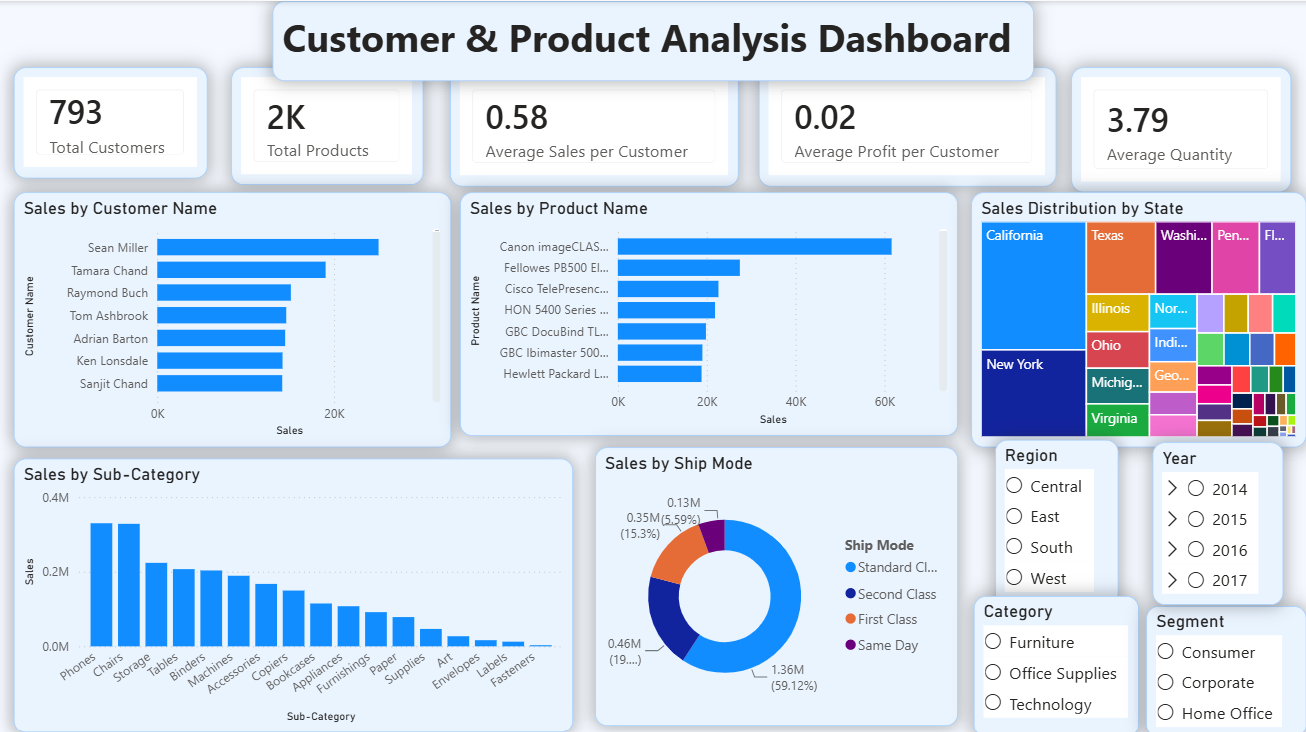

Layout of this report page (visuals, bound fields, positions):
{"tool":"powerbi","page":{"name":"Customer & Product Analysis","canvas":[1280,720],"ordinal":1},"visuals":[{"type":"cardVisual","fields":{"Data":["superstore_sales_cleaned.Total Customers"]},"box":[13.7,64.5,189.4,108.4],"z":0},{"type":"cardVisual","fields":{"Data":["superstore_sales_cleaned.Total Products"]},"box":[226.4,64.5,188,115.3],"z":1000},{"type":"cardVisual","fields":{"Data":["superstore_sales_cleaned.Average Sales per Customer"]},"box":[440.5,64.5,282.7,116.6],"z":2000},{"type":"cardVisual","fields":{"Data":["superstore_sales_cleaned.Average Profit per Customer"]},"box":[742.4,64.5,290.9,116.6],"z":3000},{"type":"cardVisual","fields":{"Data":["superstore_sales_cleaned.Average Quantity"]},"box":[1048.4,64.5,215.4,122.1],"z":4000},{"type":"clusteredBarChart","fields":{"Category":["superstore_sales_cleaned.Customer Name"],"Y":["Sum(superstore_sales_cleaned.Sales)"]},"box":[13.7,186.6,428.1,249.7],"z":5000},{"type":"barChart","fields":{"Category":["superstore_sales_cleaned.Product Name"],"Y":["Sum(superstore_sales_cleaned.Sales)"]},"box":[450.1,186.6,487.1,238.8],"z":6000},{"type":"clusteredColumnChart","fields":{"Category":["superstore_sales_cleaned.Sub-Category"],"Y":["Sum(superstore_sales_cleaned.Sales)"]},"box":[13.7,447.3,547.5,269],"z":7000},{"type":"donutChart","fields":{"Category":["superstore_sales_cleaned.Ship Mode"],"Y":["Sum(superstore_sales_cleaned.Sales)"]},"box":[581.8,436.4,355.4,273.1],"z":8000},{"type":"treemap","title":"Sales Distribution by State","fields":{"Group":["superstore_sales_cleaned.State"],"Values":["Sum(superstore_sales_cleaned.Sales)"]},"box":[949.6,186.6,328,249.7],"z":9000},{"type":"listSlicer","fields":{"Values":["superstore_sales_cleaned.Region"]},"box":[972.9,429.5,120.8,161.9],"z":10000},{"type":"listSlicer","fields":{"Values":["superstore_sales_cleaned.Category"]},"box":[952.3,581.8,161.9,138.6],"z":11000},{"type":"listSlicer","fields":{"Values":["superstore_sales_cleaned.Segment"]},"box":[1121.1,591.4,156.4,129],"z":12000},{"type":"listSlicer","fields":{"Values":["superstore_sales_cleaned.Order Date.Variation.Date Hierarchy.Year","superstore_sales_cleaned.Order Date.Variation.Date Hierarchy.Month","superstore_sales_cleaned.Order Date.Variation.Date Hierarchy.Day"]},"box":[1128,432.2,127.6,159.2],"z":13000},{"type":"textbox","box":[266.2,0,745.1,78.2],"z":14000}]}

Visuals, with their boxes in screenshot pixels (x1, y1, x2, y2), scaled from the page's 1280x720 canvas onto the 1306x732 screenshot:
cardVisual - superstore_sales_cleaned.Total Customers: select_region(14, 66, 207, 176)
cardVisual - superstore_sales_cleaned.Total Products: select_region(231, 66, 423, 183)
cardVisual - superstore_sales_cleaned.Average Sales per Customer: select_region(449, 66, 738, 184)
cardVisual - superstore_sales_cleaned.Average Profit per Customer: select_region(757, 66, 1054, 184)
cardVisual - superstore_sales_cleaned.Average Quantity: select_region(1070, 66, 1289, 190)
clusteredBarChart - superstore_sales_cleaned.Customer Name x Sum(superstore_sales_cleaned.Sales): select_region(14, 190, 451, 444)
barChart - superstore_sales_cleaned.Product Name x Sum(superstore_sales_cleaned.Sales): select_region(459, 190, 956, 432)
clusteredColumnChart - superstore_sales_cleaned.Sub-Category x Sum(superstore_sales_cleaned.Sales): select_region(14, 455, 573, 728)
donutChart - superstore_sales_cleaned.Ship Mode x Sum(superstore_sales_cleaned.Sales): select_region(594, 444, 956, 721)
"Sales Distribution by State" treemap: select_region(969, 190, 1304, 444)
listSlicer - superstore_sales_cleaned.Region: select_region(993, 437, 1116, 601)
listSlicer - superstore_sales_cleaned.Category: select_region(972, 591, 1137, 731)
listSlicer - superstore_sales_cleaned.Segment: select_region(1144, 601, 1303, 731)
listSlicer - superstore_sales_cleaned.Order Date.Variation.Date Hierarchy.Year x superstore_sales_cleaned.Order Date.Variation.Date Hierarchy.Month: select_region(1151, 439, 1281, 601)
textbox: select_region(272, 0, 1032, 80)
